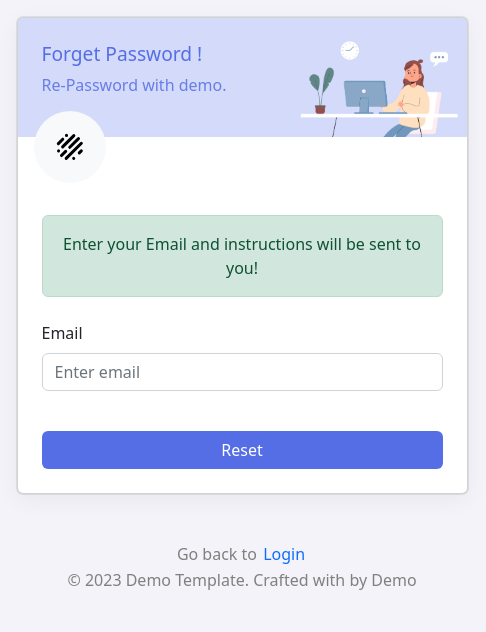
Test case: Forget page testing › Input field is empty
The width and height of the screenshot is (486, 632).
Check: the field with placeholder "Enter email" is shown, box [42, 353, 442, 391]
Click the button with class "login-btn": (243, 450) [42, 431, 443, 469]
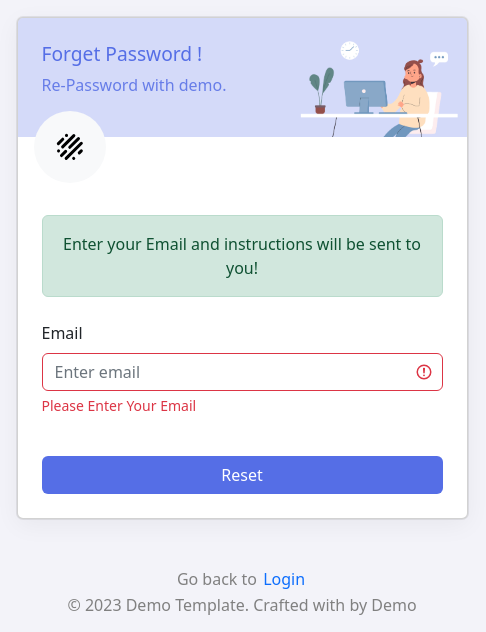
Check: the text "Please Enter Your Email" is shown, box [42, 396, 196, 415]
